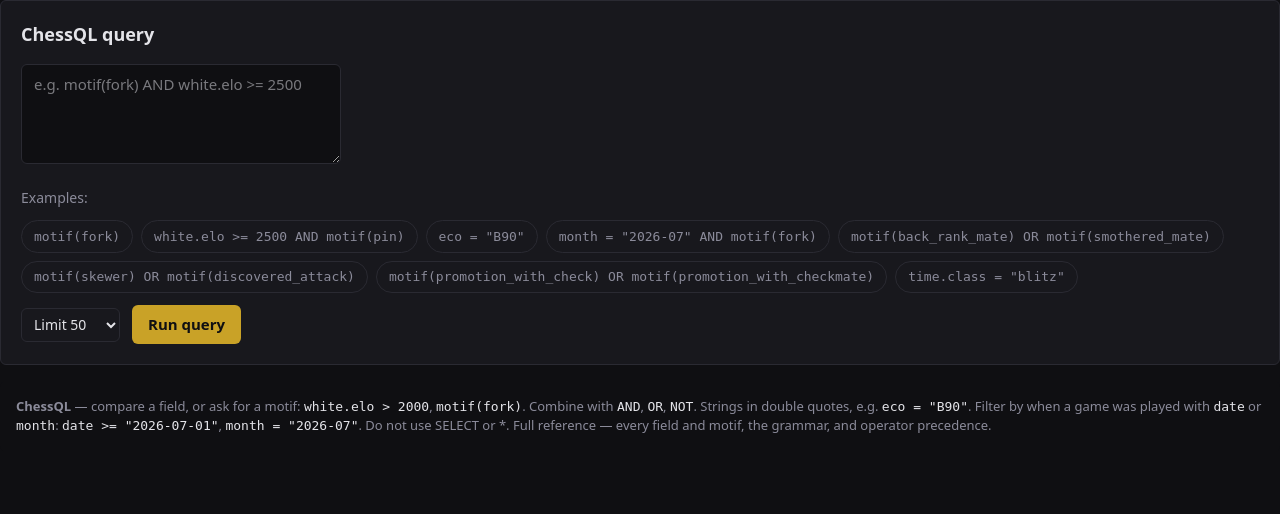
Test: QueryView › shows no-results message for empty response
This screenshot has width=1280, height=514.
In the text box with placeholder "e.g. motif(fork) AND white.elo >= 2500": coordinates (181, 114) [21,64,341,164], type "eco = \"Z99\""
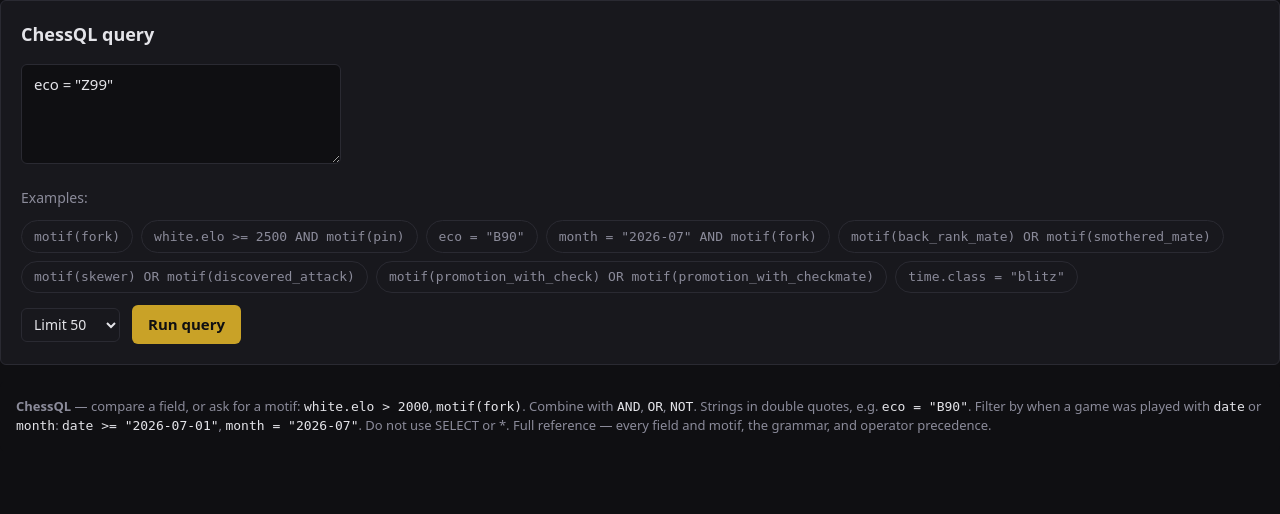
Click the button "Run query": coordinates (187, 325) [132,305,241,344]
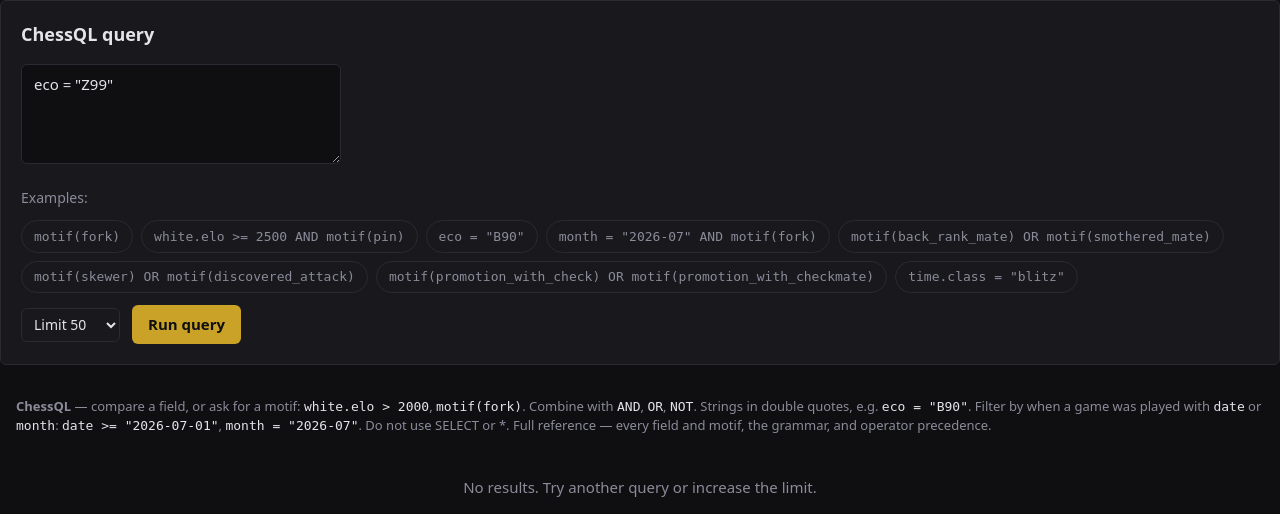
Result: the text "No results. Try another query or increase the limit." is shown at [463,477,817,497]
